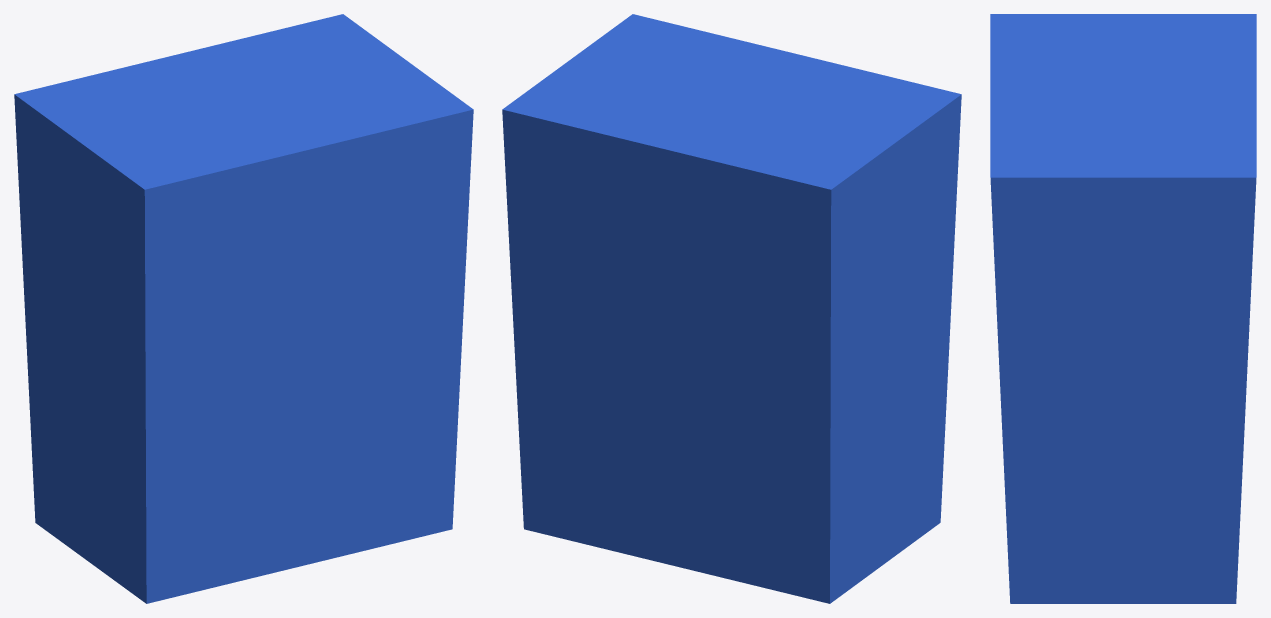
Rendered from Collision_Nightstand_Drawer.fbx.
The picture shows the model from 3 angles, left to right: view 1: azimuth 30°, elevation 25°; view 2: azimuth 150°, elevation 25°; view 3: azimuth 270°, elevation 25°; orthographic projection.
Visible parts, largest first — view 1: UCX_Nightstand_Drawer_1; view 2: UCX_Nightstand_Drawer_1; view 3: UCX_Nightstand_Drawer_1.
Part boxes in pixels (x1=…): UCX_Nightstand_Drawer_1: x1=14, y1=14, x2=473, y2=603; UCX_Nightstand_Drawer_1: x1=502, y1=14, x2=961, y2=603; UCX_Nightstand_Drawer_1: x1=990, y1=14, x2=1256, y2=603.
Size of the model in its own units: 71.69 by 88.32 by 49.27.
